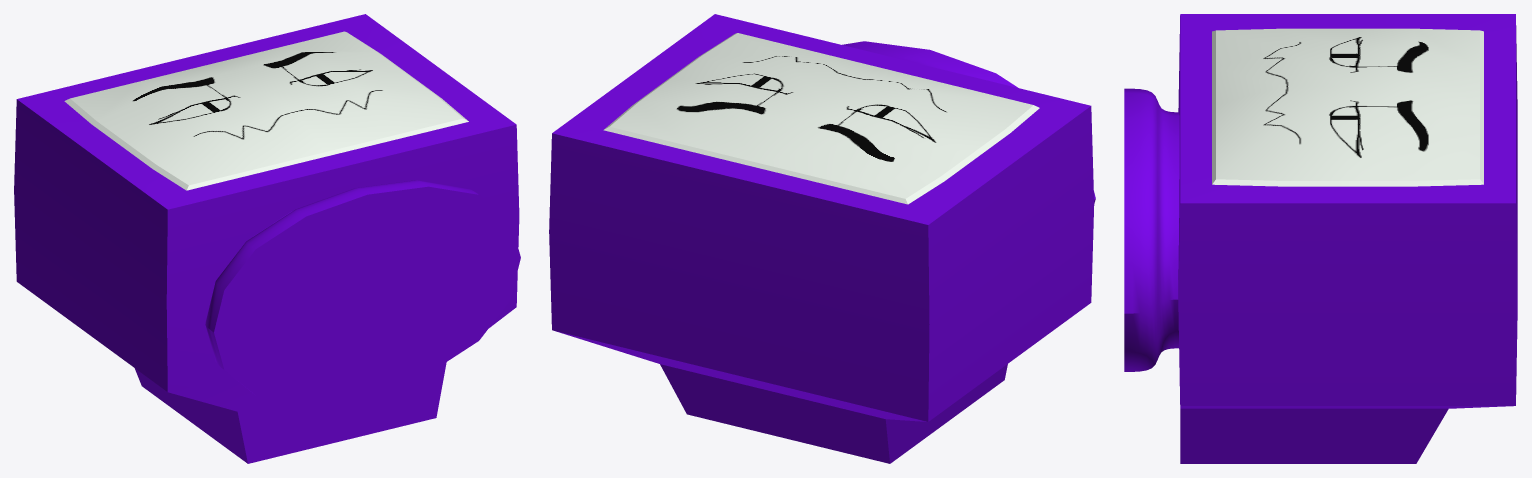
The model's file is AVERAGE COMENTARY YOUTUBER.glb.
3 renders of one model, left to right at view 1: azimuth 30°, elevation 25°; view 2: azimuth 150°, elevation 25°; view 3: azimuth 270°, elevation 25°, orthographic. The views are drawn at different scales.
Visible parts, largest first — view 1: AVERAGE COMENTARY YOUTUBER; view 2: AVERAGE COMENTARY YOUTUBER; view 3: AVERAGE COMENTARY YOUTUBER.
Boxes of the visible parts, x1=… form: AVERAGE COMENTARY YOUTUBER: x1=14, y1=14, x2=520, y2=463; AVERAGE COMENTARY YOUTUBER: x1=549, y1=14, x2=1095, y2=463; AVERAGE COMENTARY YOUTUBER: x1=1124, y1=14, x2=1517, y2=463.
Bounding box in the file's own units: 0.8086 × 0.6432 × 0.7032.
2 materials, 1 textured.
